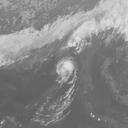cyclone: (56, 56, 80, 84)
